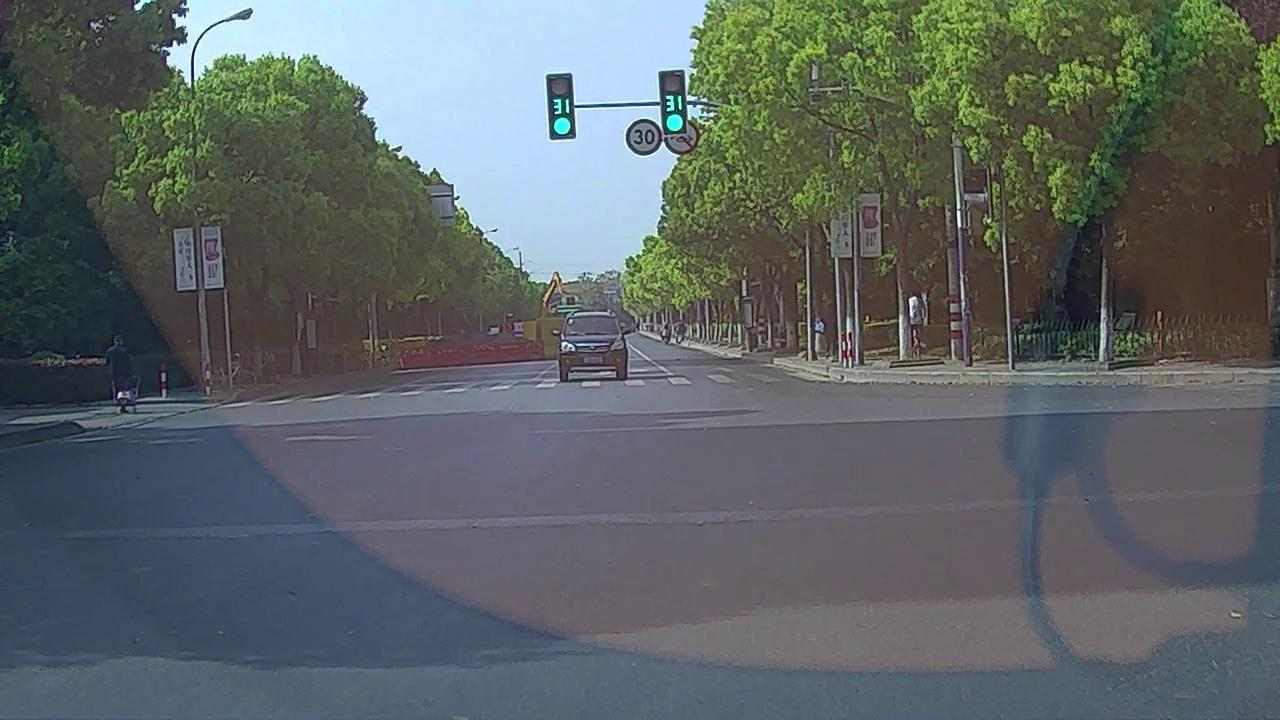traffic_light: (547, 73, 576, 138), (661, 71, 687, 136)
